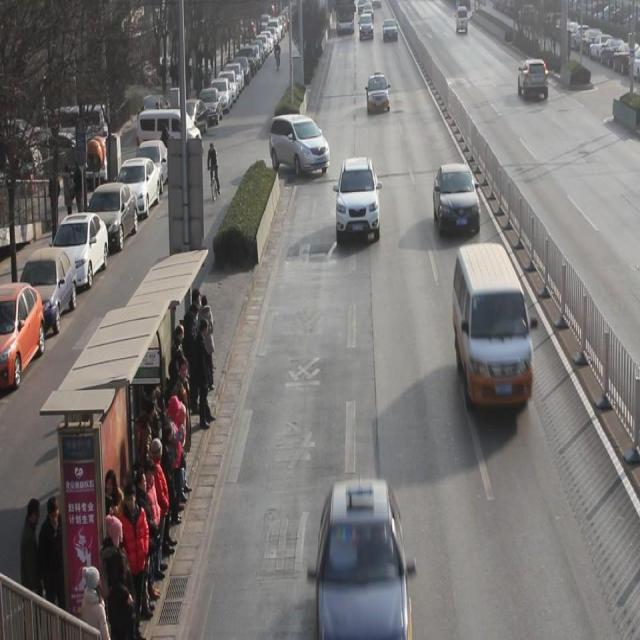car: (318, 480, 412, 640), (336, 158, 381, 245), (434, 164, 481, 240), (518, 60, 549, 104), (366, 76, 391, 117)
truck: (453, 247, 534, 417)
